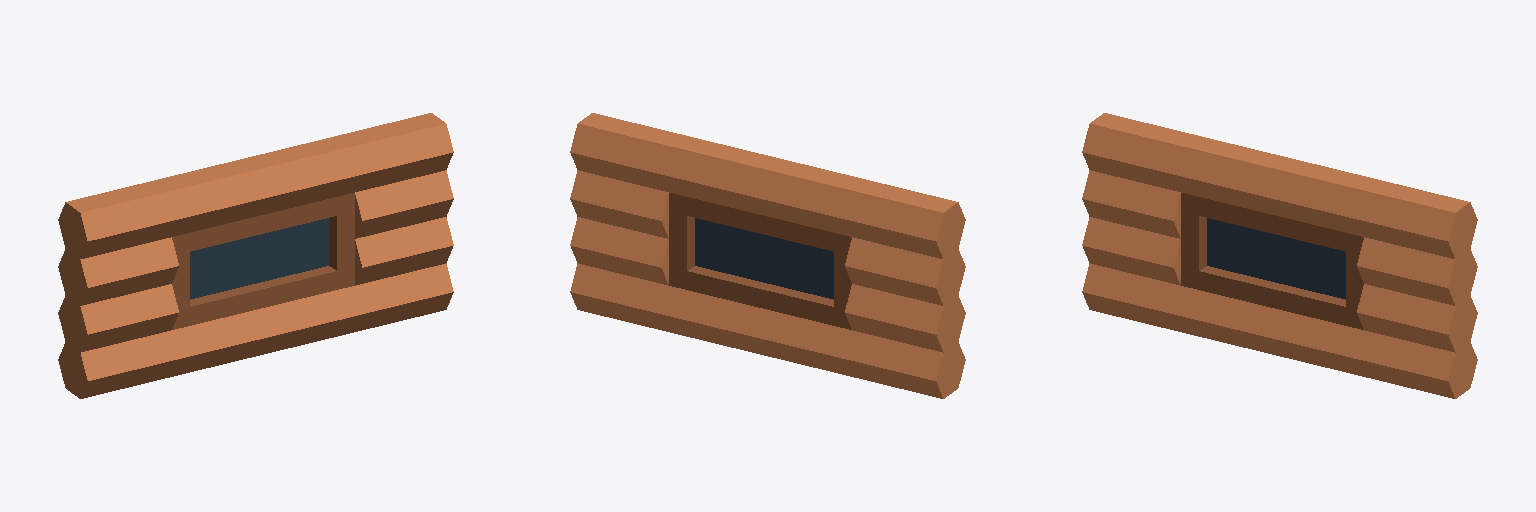
File: cabinWindowHalf.obj
3 views of the same model, side by side, from view 1: azimuth 30°, elevation 25°; view 2: azimuth 150°, elevation 25°; view 3: azimuth 330°, elevation 25° (orthographic).
Parts seen in each view (by area): view 1: cabinWindowHalf; view 2: cabinWindowHalf; view 3: cabinWindowHalf.
Part boxes in pixels (left/top/right/bottom): cabinWindowHalf: left=58, top=113, right=453, bottom=398; cabinWindowHalf: left=570, top=113, right=965, bottom=398; cabinWindowHalf: left=1082, top=113, right=1477, bottom=398.
Size of the model in its own units: 1 by 0.4864 by 0.1404.